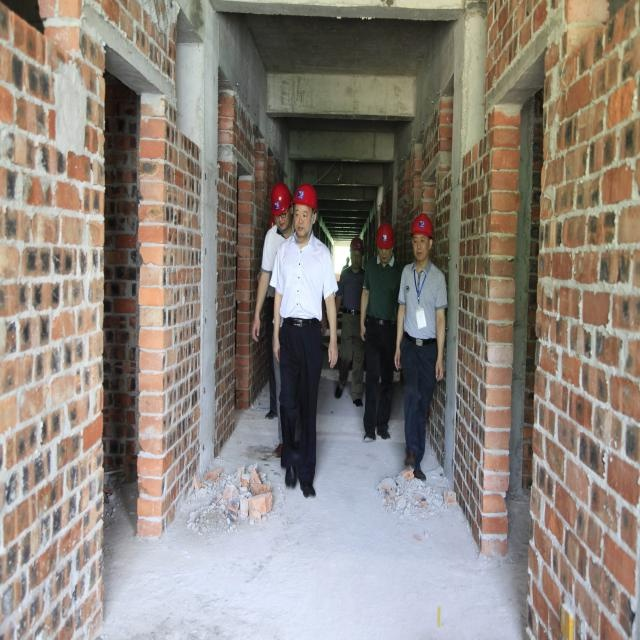Con_Casco: (292, 186, 317, 237)
